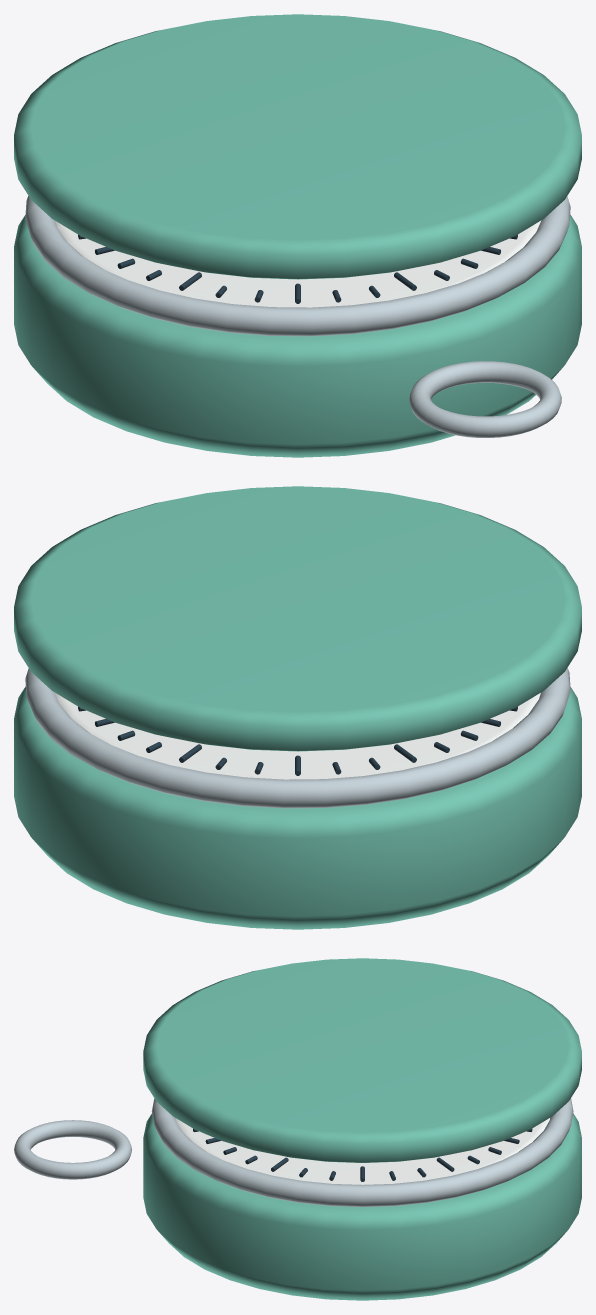
File: field_compass.glb
3 views of the same model, one above another, from view 1: azimuth 30°, elevation 25°; view 2: azimuth 150°, elevation 25°; view 3: azimuth 270°, elevation 25° (orthographic). The views are drawn at different scales.
Parts seen in each view (by area): view 1: Lid_Disc, Compass_Base, Bezel, Dial, Carry_Loop; view 2: Lid_Disc, Compass_Base, Bezel, Dial; view 3: Lid_Disc, Compass_Base, Bezel, Dial, Carry_Loop.
Part boxes in pixels (x1,y1,x2,y2): Lid_Disc: (14, 14, 581, 279); Compass_Base: (14, 215, 581, 457); Bezel: (25, 196, 570, 336); Dial: (55, 220, 541, 307); Carry_Loop: (409, 361, 561, 437); Lid_Disc: (14, 486, 581, 751); Compass_Base: (14, 687, 581, 929); Bezel: (25, 668, 570, 808); Dial: (54, 692, 540, 779); Lid_Disc: (143, 958, 581, 1162); Compass_Base: (143, 1113, 581, 1300); Bezel: (151, 1098, 573, 1207); Dial: (175, 1118, 549, 1184); Carry_Loop: (14, 1120, 131, 1179).
Bounding box in the file's own units: 0.156 × 0.066 × 0.202.
